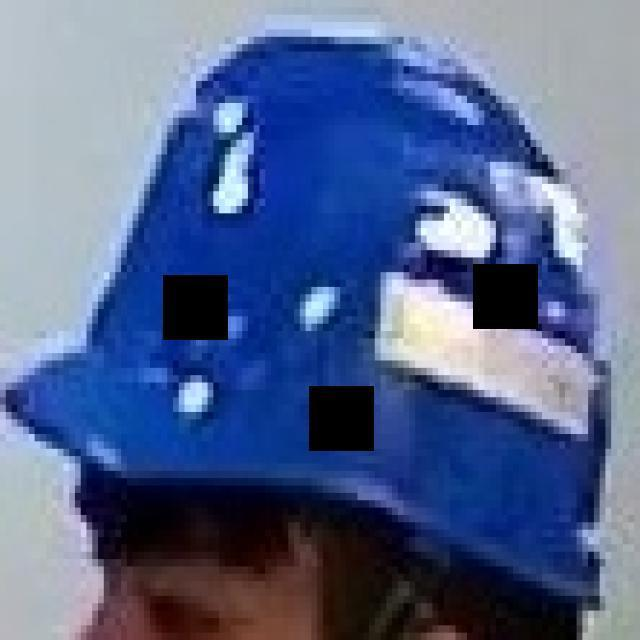blue helmet: (1, 18, 608, 614)
